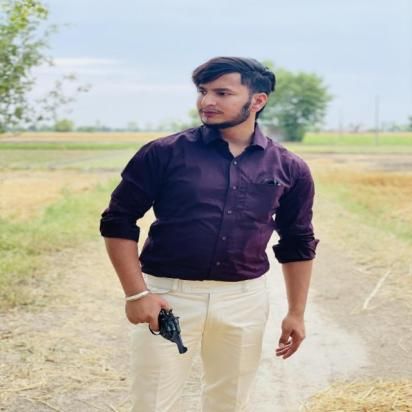Gun: (125, 304, 194, 358)
